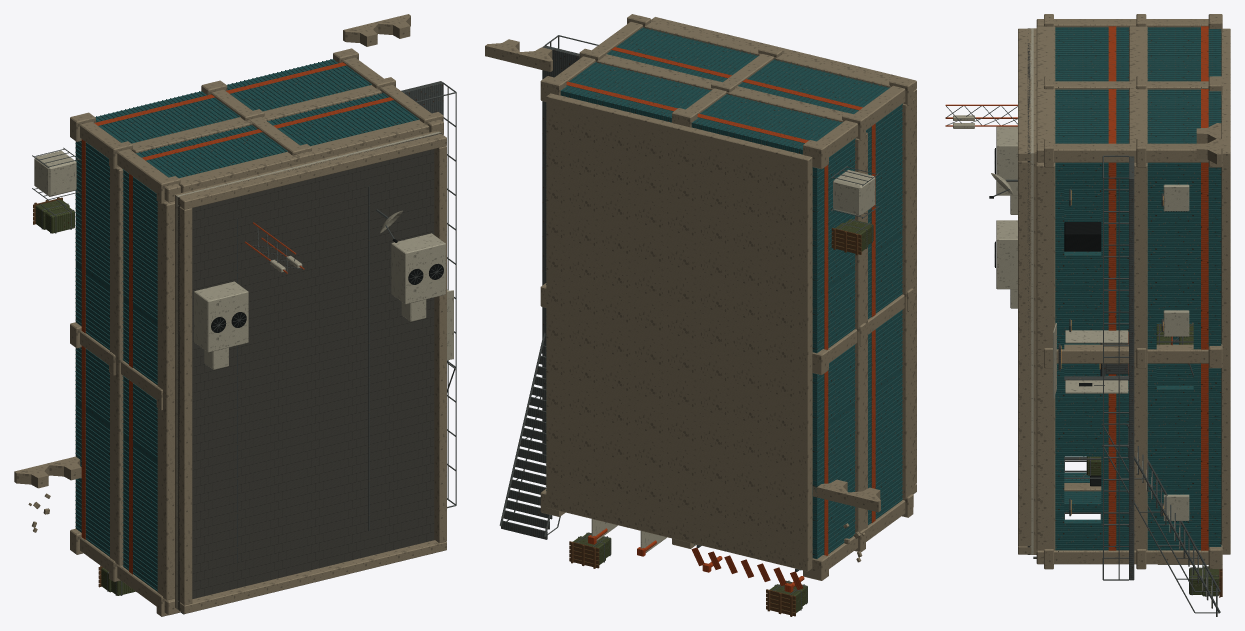
The model's file is outpost-assembly-v1.obj.
3 views of the same model, side by side, from view 1: azimuth 30°, elevation 25°; view 2: azimuth 150°, elevation 25°; view 3: azimuth 270°, elevation 25° (orthographic). The views are drawn at different scales.
Visible parts, largest first — view 1: Outpost_S02_Roof_02_03, Outpost_S02_Roof_01_03, Outpost_S02_Roof_02_02, Outpost_S02_Roof_01_02, Outpost_S02_Roof_02_01, Outpost_S02_Roof_01_01, Perimeter_long_beam.002, Roof_parapet.002, Perimeter_long_beam, Outpost_S02_West_03, Outpost_S02_West_01, Roof_parapet.003 (+27 smaller); view 2: Foundation, Perimeter_long_beam.002, Outpost_S01_West_02, Outpost_S01_West_03, Outpost_S01_North_01, Outpost_S01_North_02, Outpost_S02_West_02, Outpost_S02_West_03, Outpost_S02_North_01, Outpost_S02_North_02, Outpost_S02_West_01, Outpost_S01_West_01 (+16 smaller); view 3: Outpost_S01_East_01, Outpost_S01_East_03, Perimeter_long_beam.003, Outpost_S02_East_01, Outpost_S02_East_03, Outpost_S01_East_02, Outpost_S02_East_02, Roof_parapet.003, Foundation, Perimeter_long_beam.001, Outpost_S02_North_01, Outpost_S02_North_02 (+30 smaller).
Boxes of the visible parts, <box> form: Outpost_S02_Roof_02_03: <box>311,411,434,570</box>; Outpost_S02_Roof_01_03: <box>175,441,310,610</box>; Outpost_S02_Roof_02_02: <box>311,284,434,441</box>; Outpost_S02_Roof_01_02: <box>175,303,310,472</box>; Outpost_S02_Roof_02_01: <box>306,130,442,303</box>; Outpost_S02_Roof_01_01: <box>175,162,310,335</box>; Perimeter_long_beam.002: <box>157,201,174,600</box>; Roof_parapet.002: <box>177,206,192,605</box>; Perimeter_long_beam: <box>110,166,123,565</box>; Outpost_S02_West_03: <box>122,436,157,591</box>; Outpost_S02_West_01: <box>122,169,157,323</box>; Roof_parapet.003: <box>434,146,446,543</box>; Foundation: <box>546,93,812,571</box>; Perimeter_long_beam.002: <box>902,98,915,498</box>; Outpost_S01_West_02: <box>812,267,855,431</box>; Outpost_S01_West_03: <box>812,405,855,558</box>; Outpost_S01_North_01: <box>691,94,842,154</box>; Outpost_S01_North_02: <box>560,62,711,122</box>; Outpost_S02_West_02: <box>868,233,902,394</box>; Outpost_S02_West_03: <box>868,370,902,524</box>; Outpost_S02_North_01: <box>738,59,889,114</box>; Outpost_S02_North_02: <box>607,27,758,82</box>; Outpost_S02_West_01: <box>866,103,902,257</box>; Outpost_S01_West_01: <box>812,138,855,294</box>; Outpost_S01_East_01: <box>1147,162,1221,289</box>; Outpost_S01_East_03: <box>1147,423,1221,550</box>; Perimeter_long_beam.003: <box>1036,162,1055,550</box>; Outpost_S02_East_01: <box>1055,162,1128,289</box>; Outpost_S02_East_03: <box>1055,423,1128,550</box>; Outpost_S01_East_02: <box>1147,289,1221,423</box>; Outpost_S02_East_02: <box>1055,289,1128,423</box>; Roof_parapet.003: <box>1018,161,1031,546</box>; Foundation: <box>1221,28,1230,554</box>; Perimeter_long_beam.001: <box>1134,162,1147,550</box>; Outpost_S02_North_01: <box>1055,26,1128,81</box>; Outpost_S02_North_02: <box>1055,89,1128,143</box>.
Bounding box in the file's own units: 48 × 57.84 × 30.9.
Materials: 12 (12 with a texture image).
